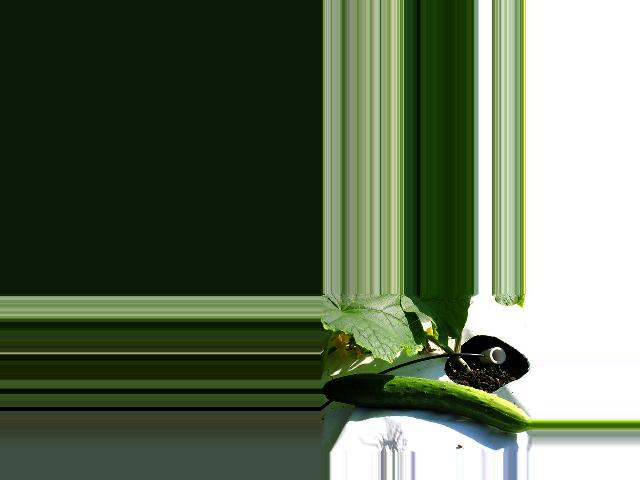cucumber: (321, 374, 533, 433)
